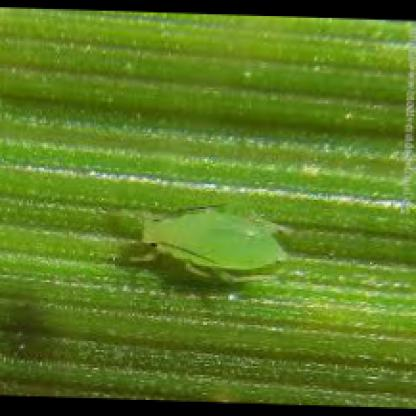schizaphis graminum: (130, 208, 286, 283)
